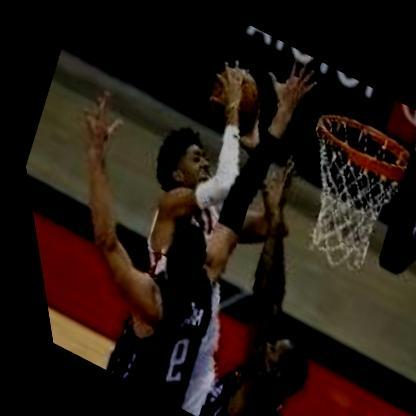basketball: (193, 52, 280, 140)
